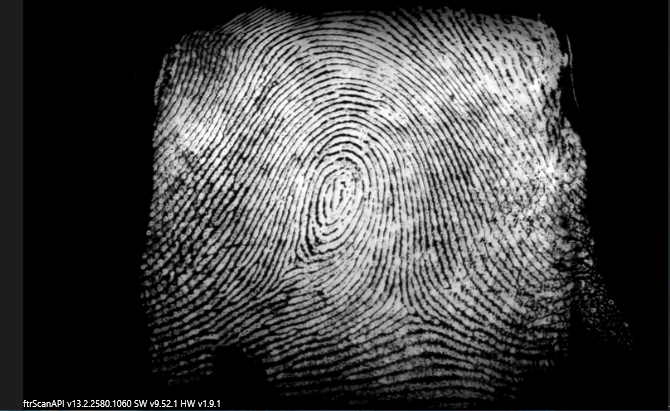deltas: (379, 275, 439, 332), (276, 233, 324, 284)
nucleo: (314, 161, 362, 217)
